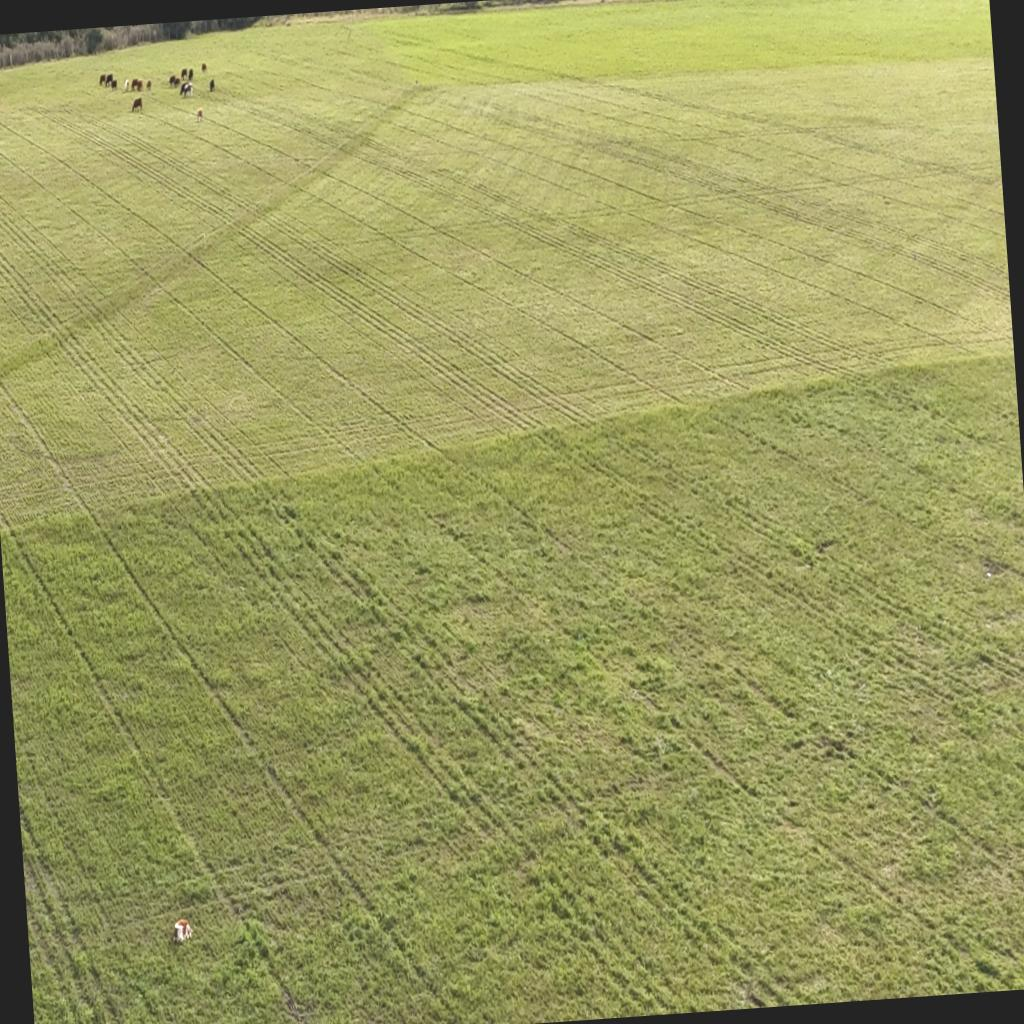cow: (173, 917, 196, 945), (178, 80, 188, 98), (184, 82, 194, 98), (104, 72, 114, 87), (179, 68, 188, 84), (132, 98, 142, 112), (130, 78, 140, 92), (136, 80, 144, 94), (168, 74, 176, 88), (186, 68, 194, 82), (196, 108, 204, 122), (110, 76, 118, 90), (208, 80, 216, 92), (98, 74, 106, 86), (123, 80, 131, 92), (174, 78, 181, 89), (146, 80, 152, 92), (201, 63, 207, 74)
